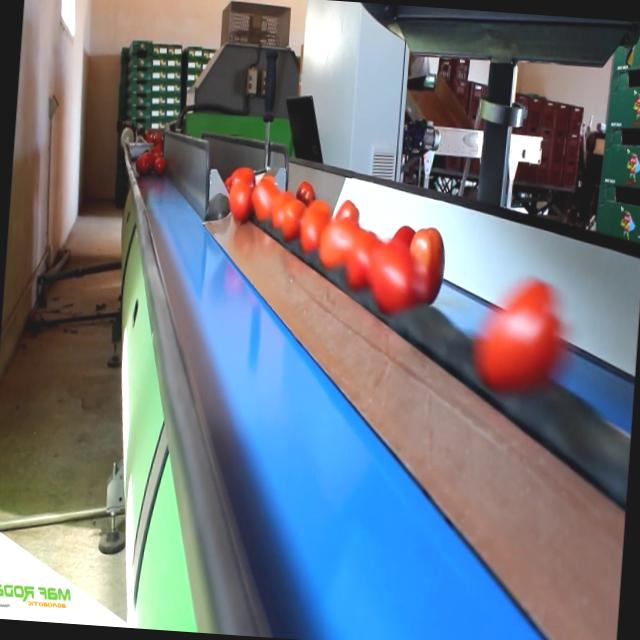Tomato: (468, 272, 564, 397), (368, 242, 416, 310), (410, 223, 446, 308), (344, 228, 384, 290), (320, 217, 364, 266), (299, 202, 337, 251), (222, 178, 256, 224), (250, 180, 284, 218), (278, 197, 308, 240), (332, 196, 362, 224), (294, 179, 314, 202), (136, 152, 154, 174)
